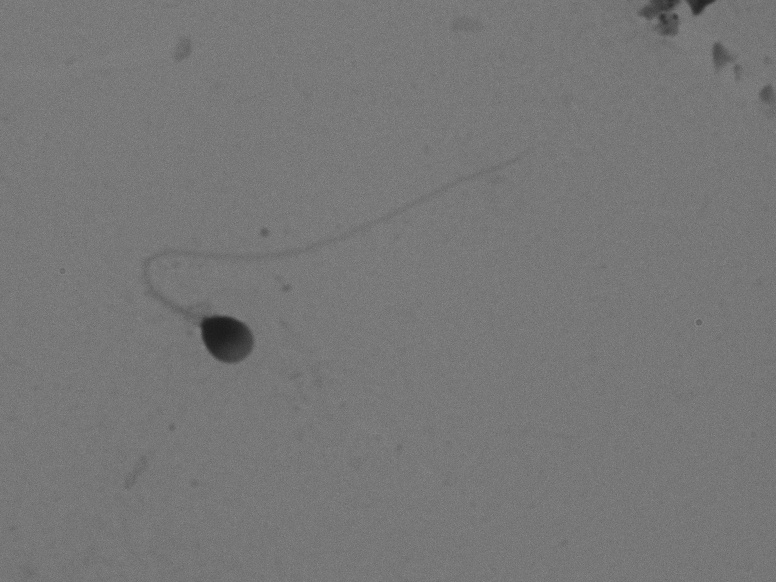Normal: (98, 145, 587, 377)
